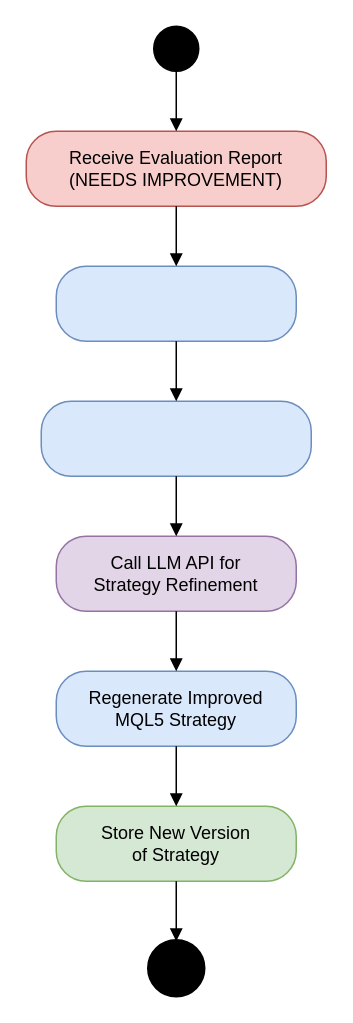
The diagram is 353 pixels wide and 1023 high, and some of its shapes have lost their labels. The centre of each missing label's shape, as x and y in pixels:
Analyze Weaknesses from Evaluation: the point at 175,303
Construct Improvement Prompt for LLM: the point at 175,438
